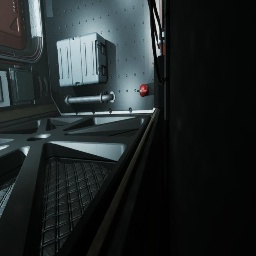EmergencyPhone ,: (160, 43, 161, 50)
FireAlarm ,: (164, 44, 164, 55)
FireExtinguisher ]: (137, 84, 149, 97)
SafetySwitchPanel ,: (0, 71, 10, 107)
